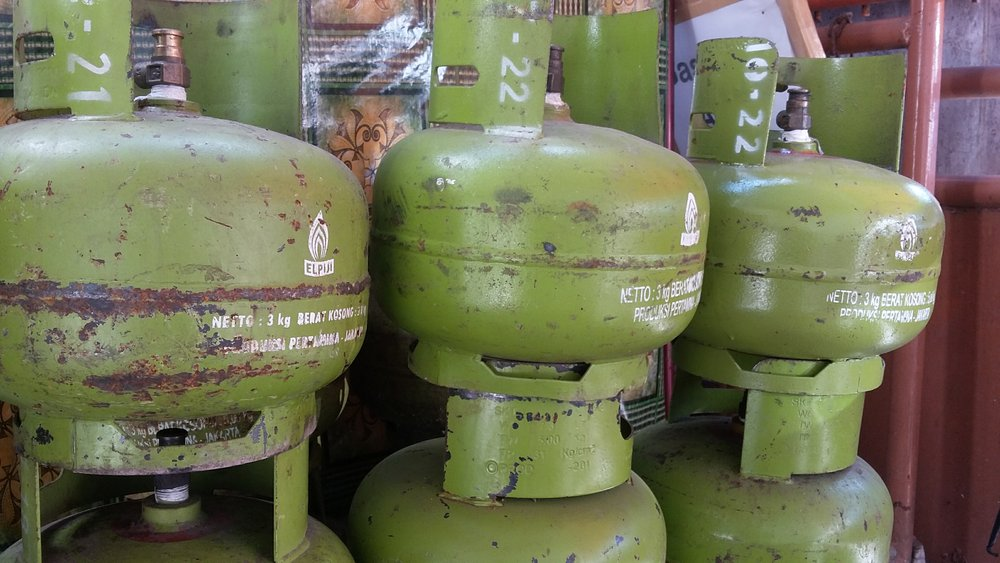gas_ijo: (1, 3, 371, 470), (373, 6, 712, 393), (664, 35, 948, 390), (362, 391, 667, 563), (631, 370, 902, 563), (11, 418, 356, 563)
